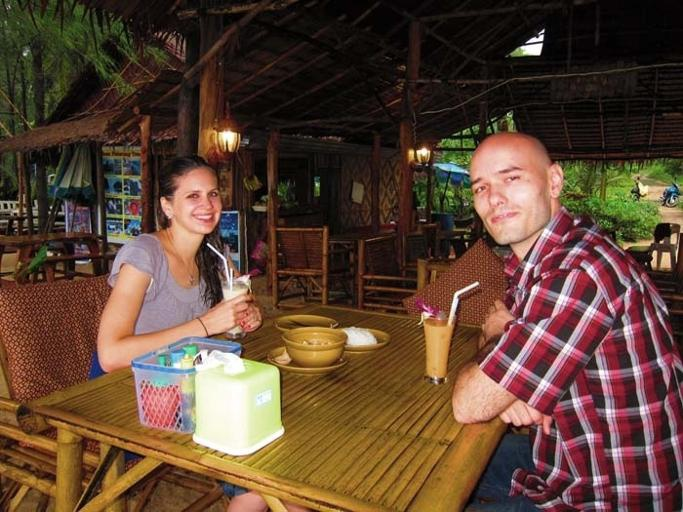non-vehicle: (657, 175, 680, 208), (629, 175, 642, 201)
